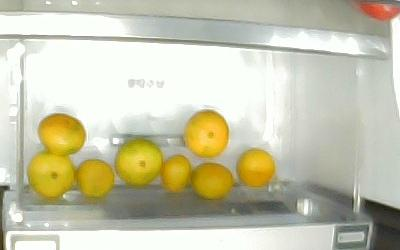tangerine: (28, 150, 75, 198), (115, 139, 162, 186), (184, 110, 229, 158), (38, 113, 86, 156), (191, 162, 234, 200), (235, 147, 275, 187), (76, 159, 114, 199), (160, 154, 191, 192)
